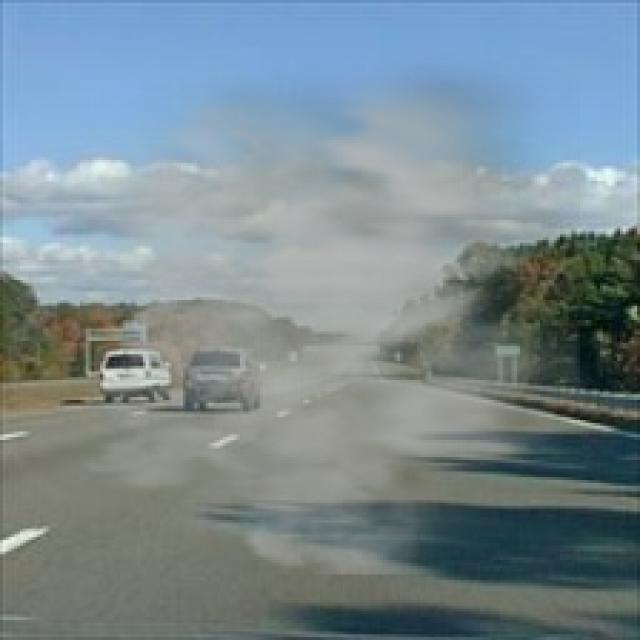Smoke: (31, 52, 580, 574)
